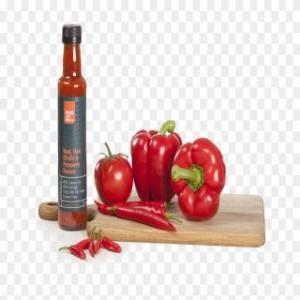bell_pepper: (172, 135, 226, 223), (133, 120, 179, 204)
tomato: (93, 141, 133, 209)
